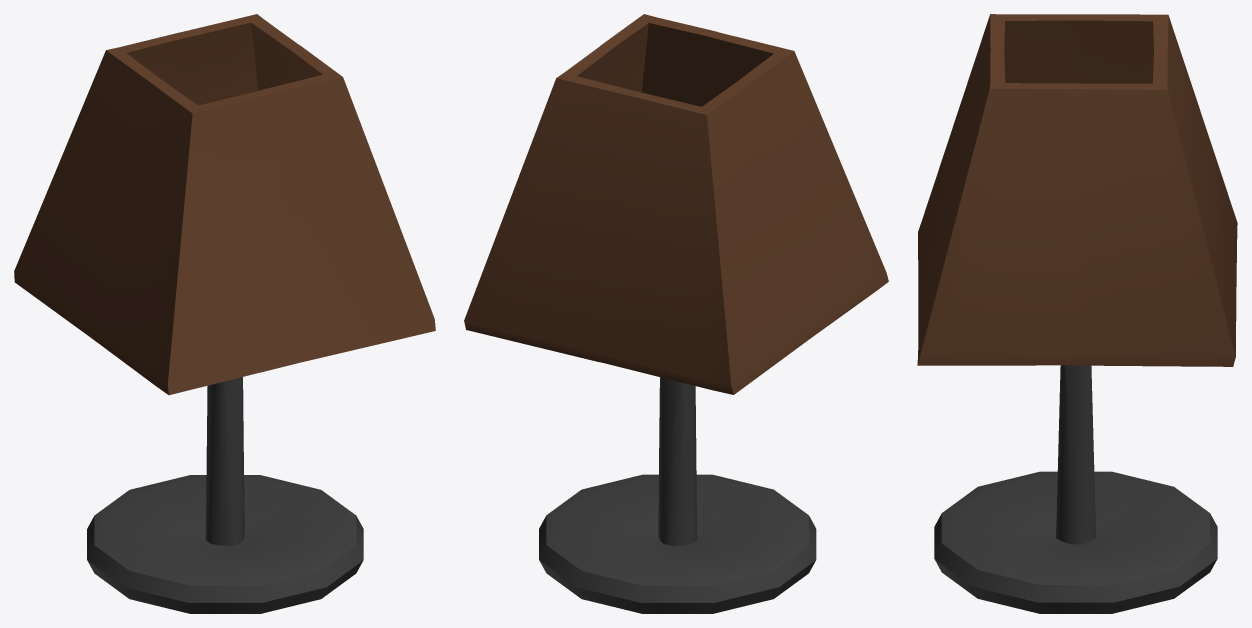
The model's file is CarlesLamparaPequeña.fbx.
3 views of the same model, side by side, from view 1: azimuth 30°, elevation 25°; view 2: azimuth 150°, elevation 25°; view 3: azimuth 270°, elevation 25° (orthographic). The views are drawn at different scales.
Parts seen in each view (by area): view 1: LamparaCorta005; view 2: LamparaCorta005; view 3: LamparaCorta005.
Boxes of the visible parts, x1,y1,x2,y2 form: LamparaCorta005: (14,14,435,613); LamparaCorta005: (464,14,888,613); LamparaCorta005: (917,14,1237,613).
Size of the model in its own units: 15.73 by 27.86 by 15.85.
